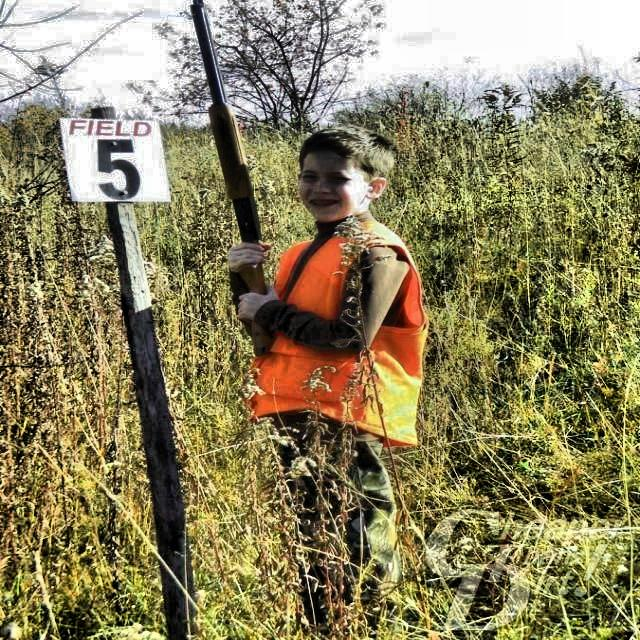safety_jacket: (271, 226, 419, 438)
